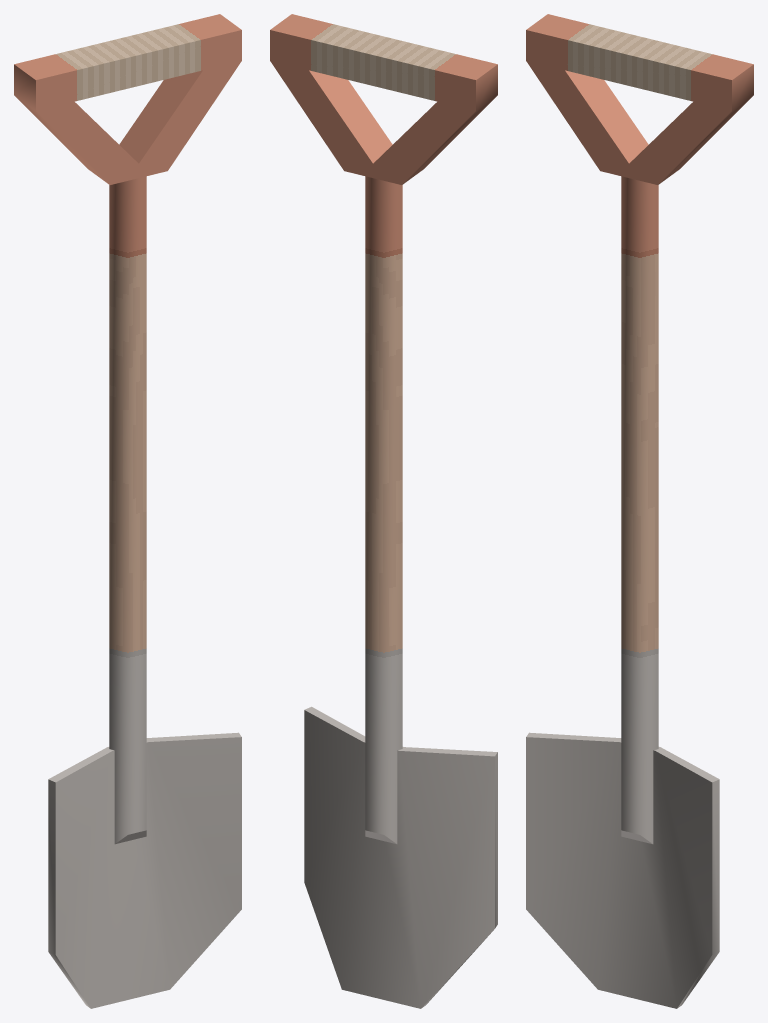
The model's file is 00da_Shovel.glb.
3 renders of one model, left to right at view 1: azimuth 30°, elevation 25°; view 2: azimuth 150°, elevation 25°; view 3: azimuth 330°, elevation 25°, orthographic.
Visible parts, largest first — view 1: part_0; view 2: part_0; view 3: part_0.
Boxes of the visible parts, left/top/right/bottom form: part_0: left=14, top=14, right=241, bottom=1008; part_0: left=270, top=14, right=497, bottom=1008; part_0: left=526, top=14, right=753, bottom=1008.
Bounding box in the file's own units: 0.2302 × 1.01 × 0.0613.
1 material, 1 textured.
